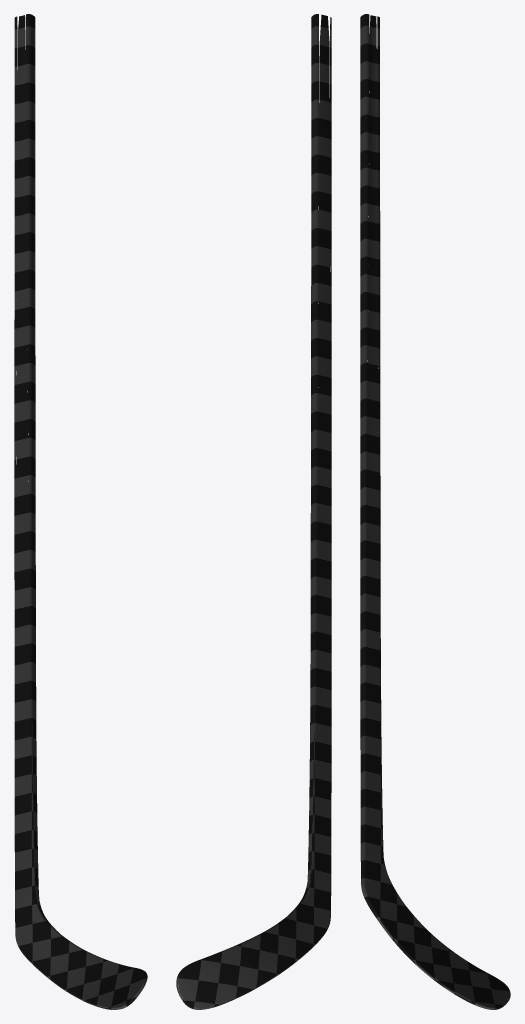
The model's file is P29-ST-LIE8_0.glb.
3 renders of one model, left to right at view 1: azimuth 30°, elevation 25°; view 2: azimuth 150°, elevation 25°; view 3: azimuth 330°, elevation 25°, orthographic. The views are drawn at different scales.
Visible parts, largest first — view 1: geometry_0; view 2: geometry_0; view 3: geometry_0.
Boxes of the visible parts, x1,y1,x2,y2 form: geometry_0: (14,14,147,1009); geometry_0: (176,14,331,1009); geometry_0: (360,14,510,1009).
Size of the model in its own units: 241 by 1650 by 55.98.
1 material, 1 textured.
